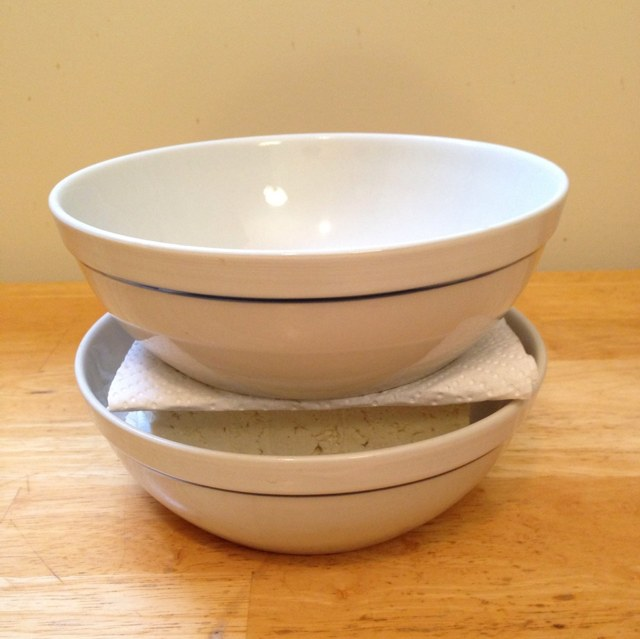bowl: (47, 132, 570, 401), (74, 306, 546, 555)
